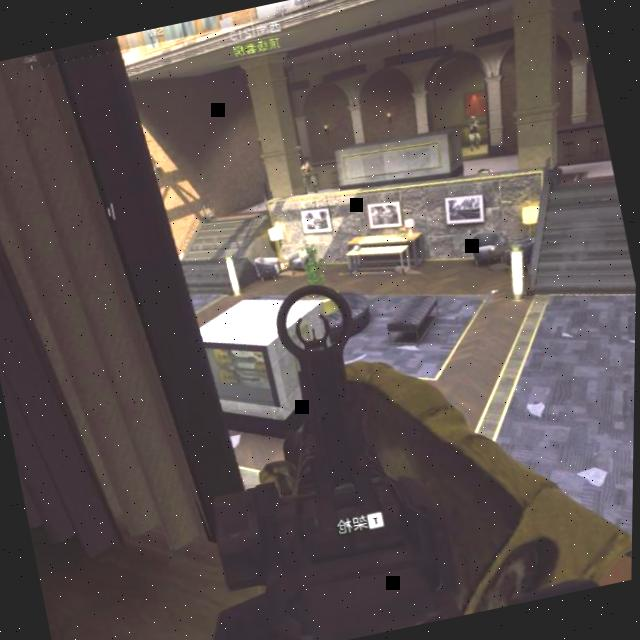MW2_body: (463, 113, 486, 153), (297, 157, 320, 196)
